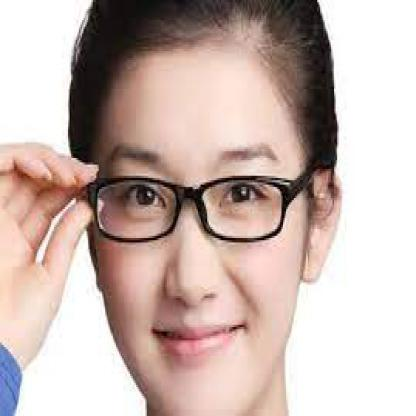glasses: (86, 174, 314, 244)
